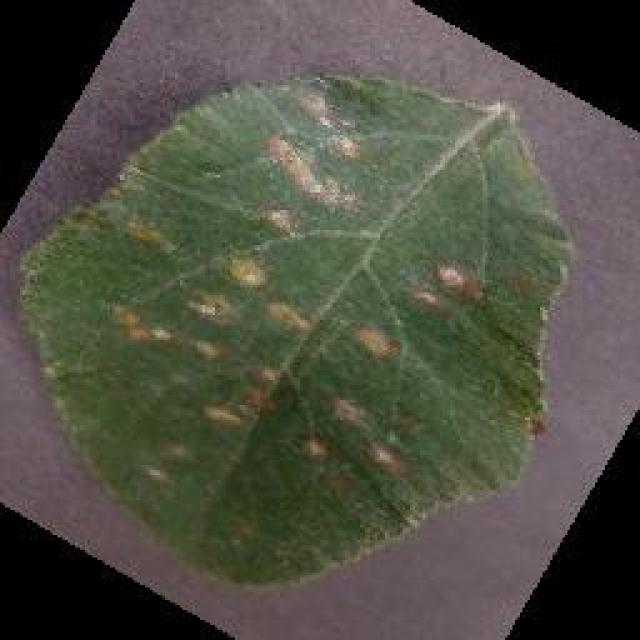apple rust disease: (15, 68, 575, 588)
